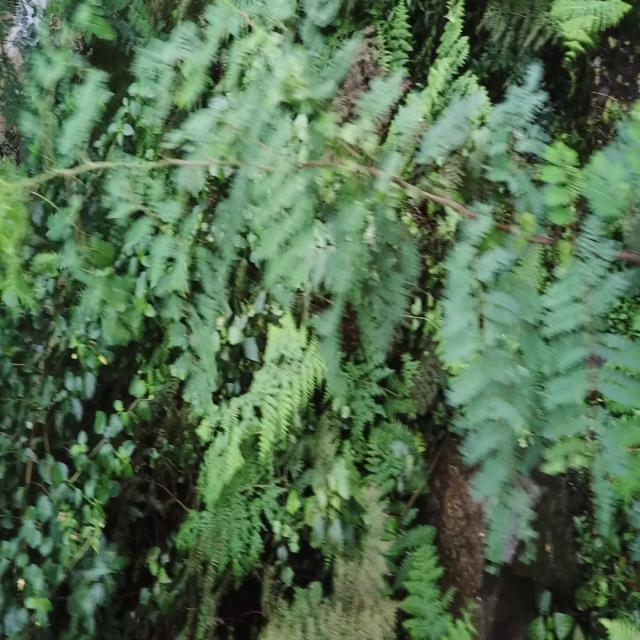Mysore-Thorn-Weed: (0, 0, 414, 380), (428, 85, 640, 553)
